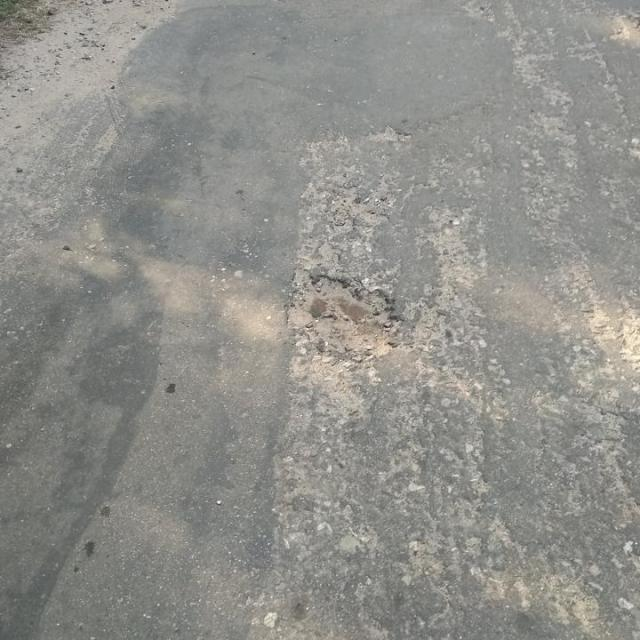Pothole: (284, 264, 414, 368)
